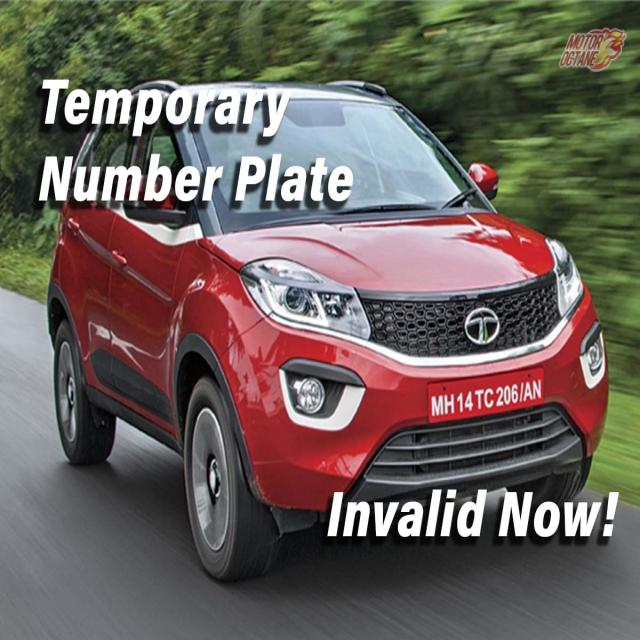plate: (428, 372, 550, 424)
